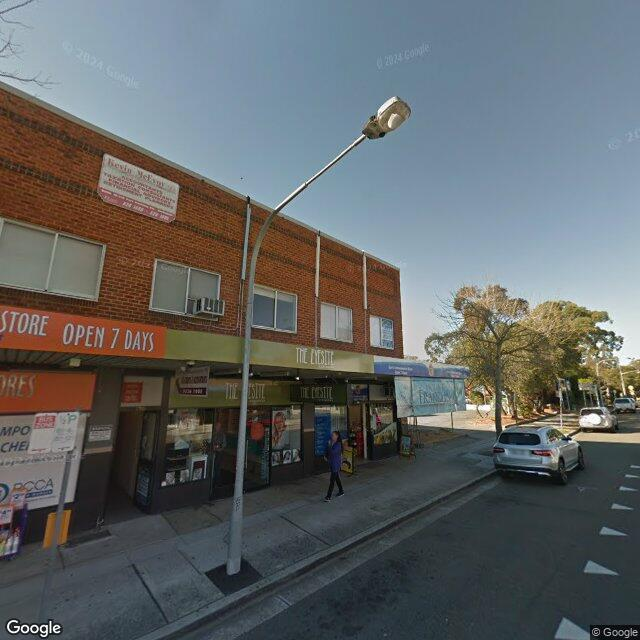steel-pole: (226, 260, 255, 575)
streetlight: (252, 96, 412, 264), (621, 369, 640, 375)
timber-pole: (621, 373, 626, 394)
